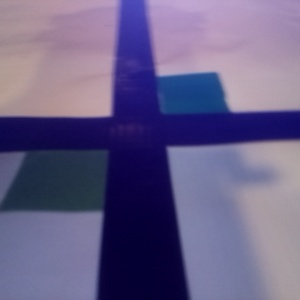bottom_left: (144, 8, 201, 39)
bottom_right: (198, 20, 282, 53)
top_left: (1, 89, 93, 169)
